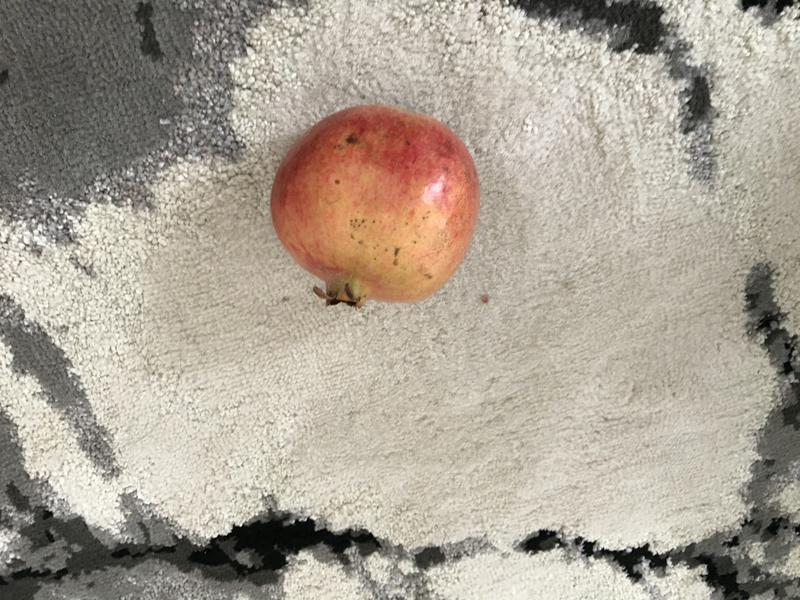pomegranate: (268, 95, 489, 329)
